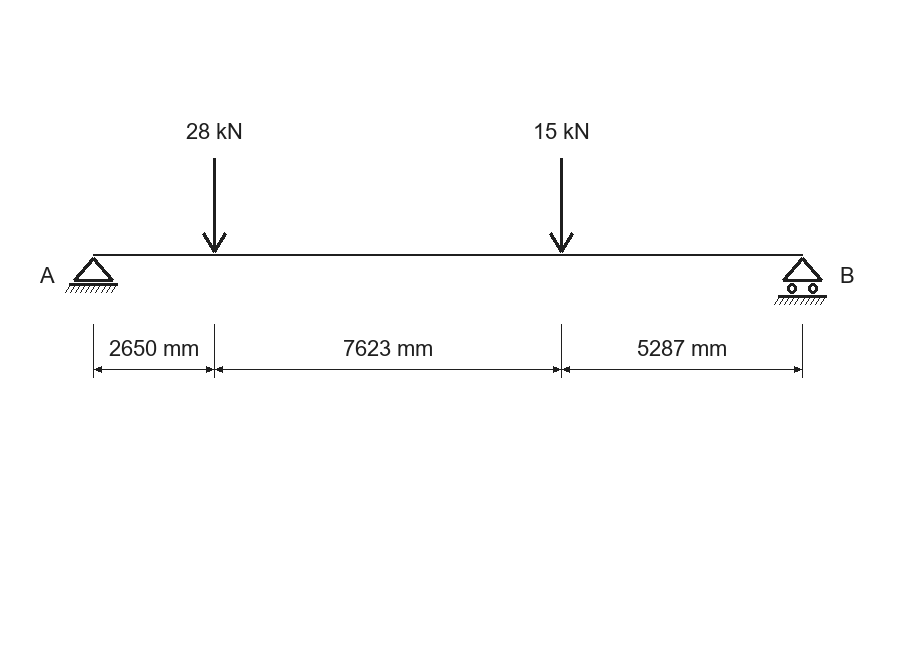pin_support: (65, 257, 118, 293)
point_load: (202, 158, 227, 253), (549, 158, 574, 253)
roller_support: (774, 257, 827, 305)
